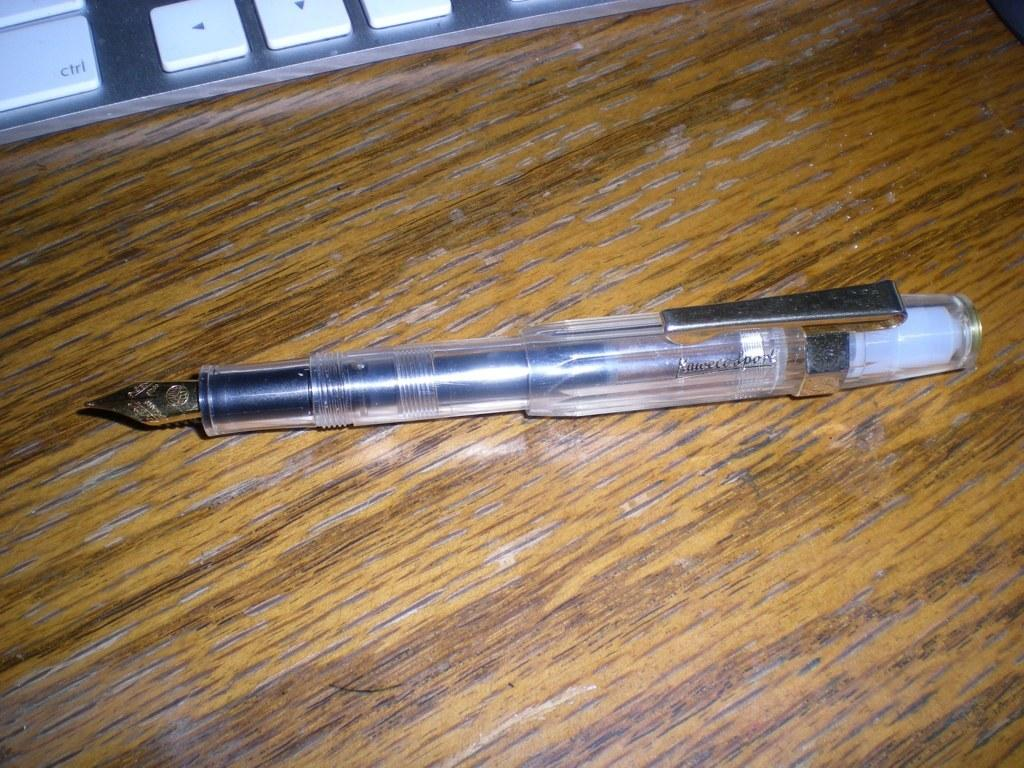pen: (86, 277, 977, 453)
